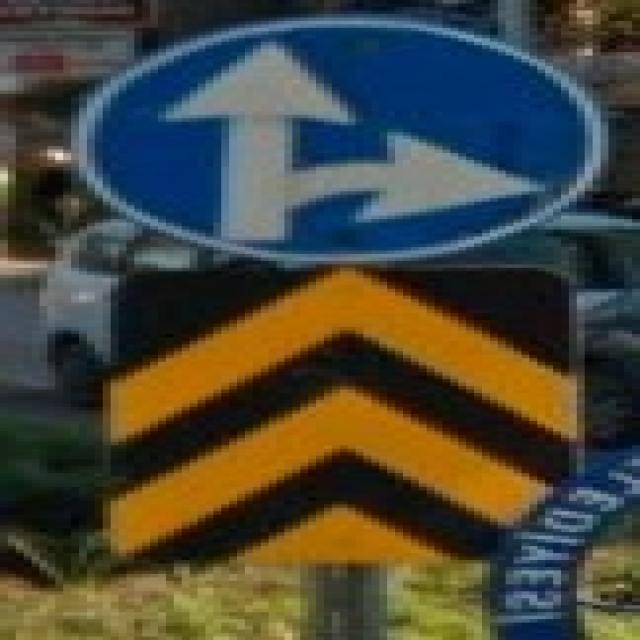Straight or Right: (92, 20, 590, 260)
